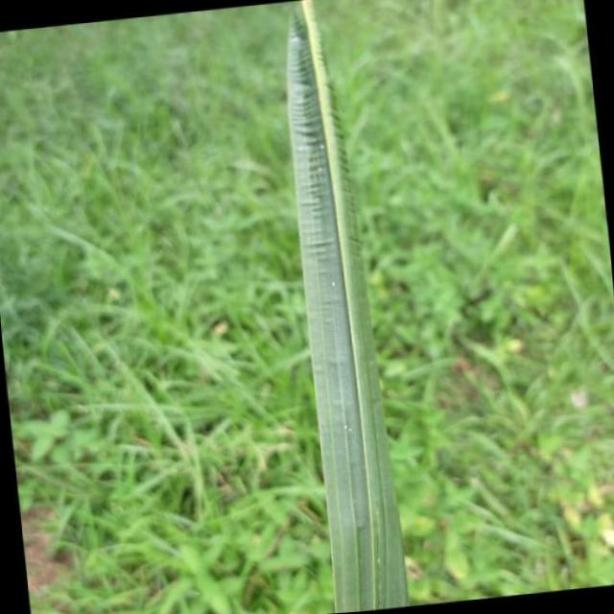Boron: (280, 0, 411, 614)
